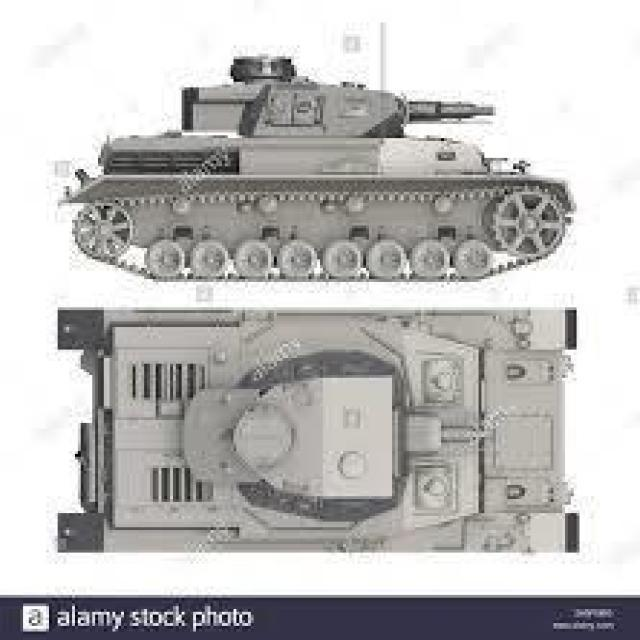MIL_MBT: (53, 299, 587, 570), (55, 49, 579, 292)
